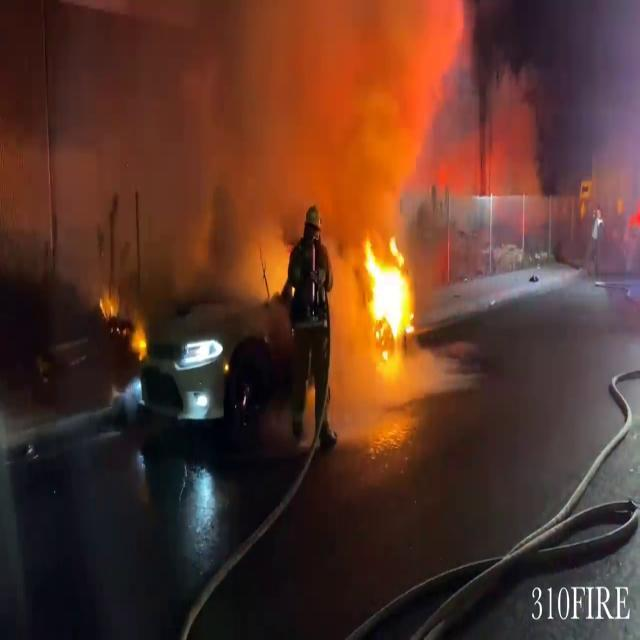Fire: (358, 232, 420, 370)
Smoke: (3, 0, 484, 266)
